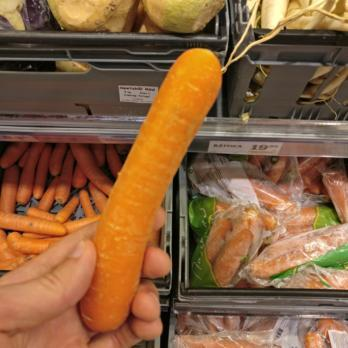Carrot: (75, 44, 225, 330), (1, 142, 116, 216), (0, 215, 67, 240)
